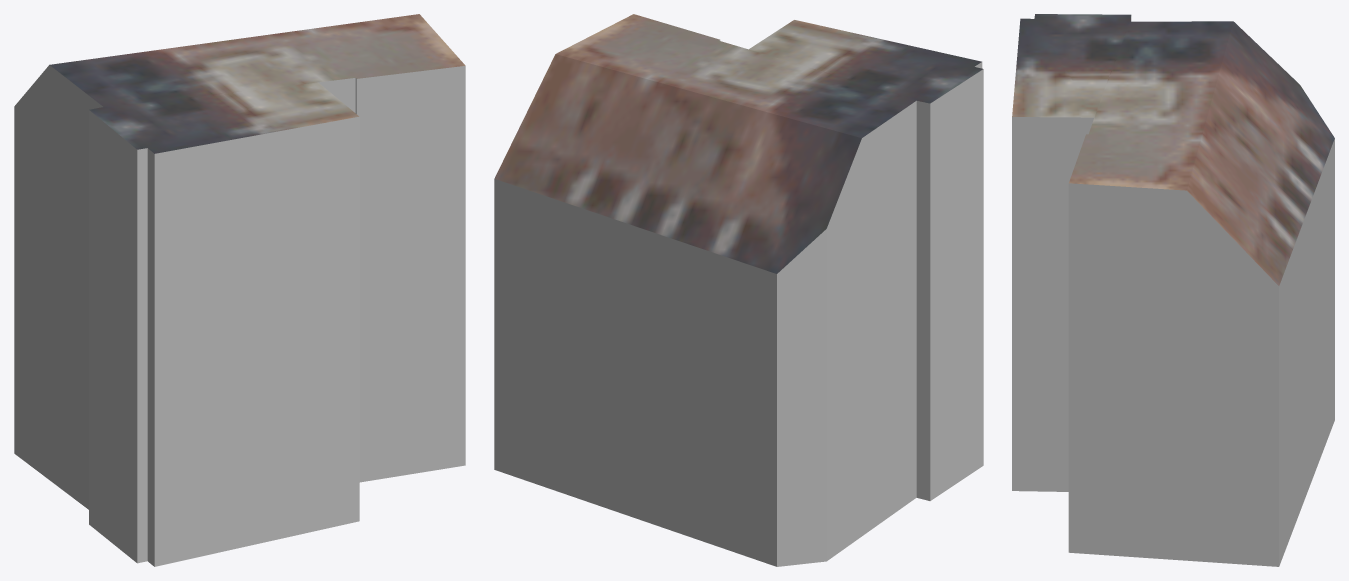
The model's file is DEBW_0010007Txbs.gltf.
3 views of the same model, side by side, from view 1: azimuth 30°, elevation 25°; view 2: azimuth 150°, elevation 25°; view 3: azimuth 270°, elevation 25° (orthographic). The views are drawn at different scales.
Visible parts, largest first — view 1: Z_UP; view 2: Z_UP; view 3: Z_UP.
Boxes of the visible parts, x1,y1,x2,y2 form: Z_UP: (14,14,465,566); Z_UP: (494,14,983,566); Z_UP: (1012,14,1334,566).
Size of the model in its own units: 17.52 by 18.38 by 14.01.
2 materials, 1 textured.
